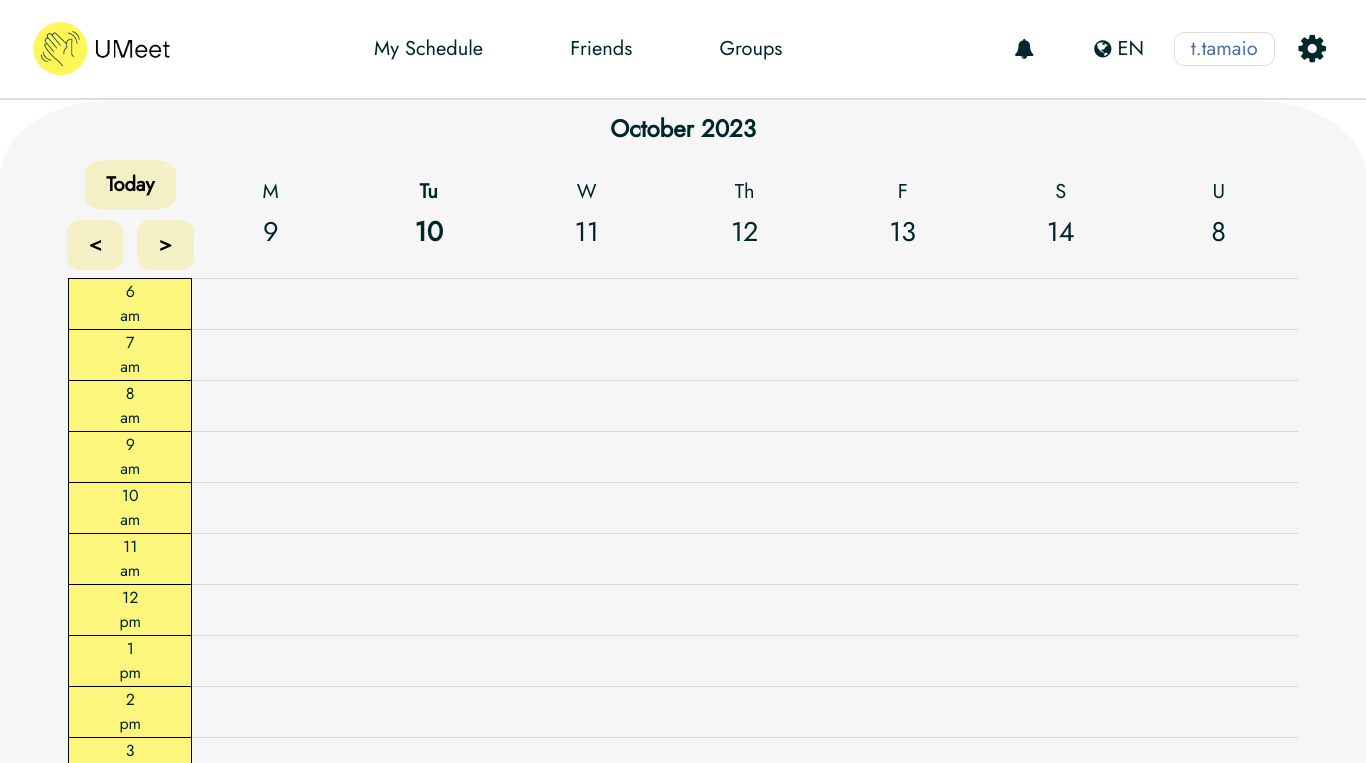
Test: renders month in spanish
The width and height of the screenshot is (1366, 763).
Note: change language to spanish
Step 1. Click the button "EN" → (1119, 49), box top-left (1088, 32), bottom-right (1150, 66)
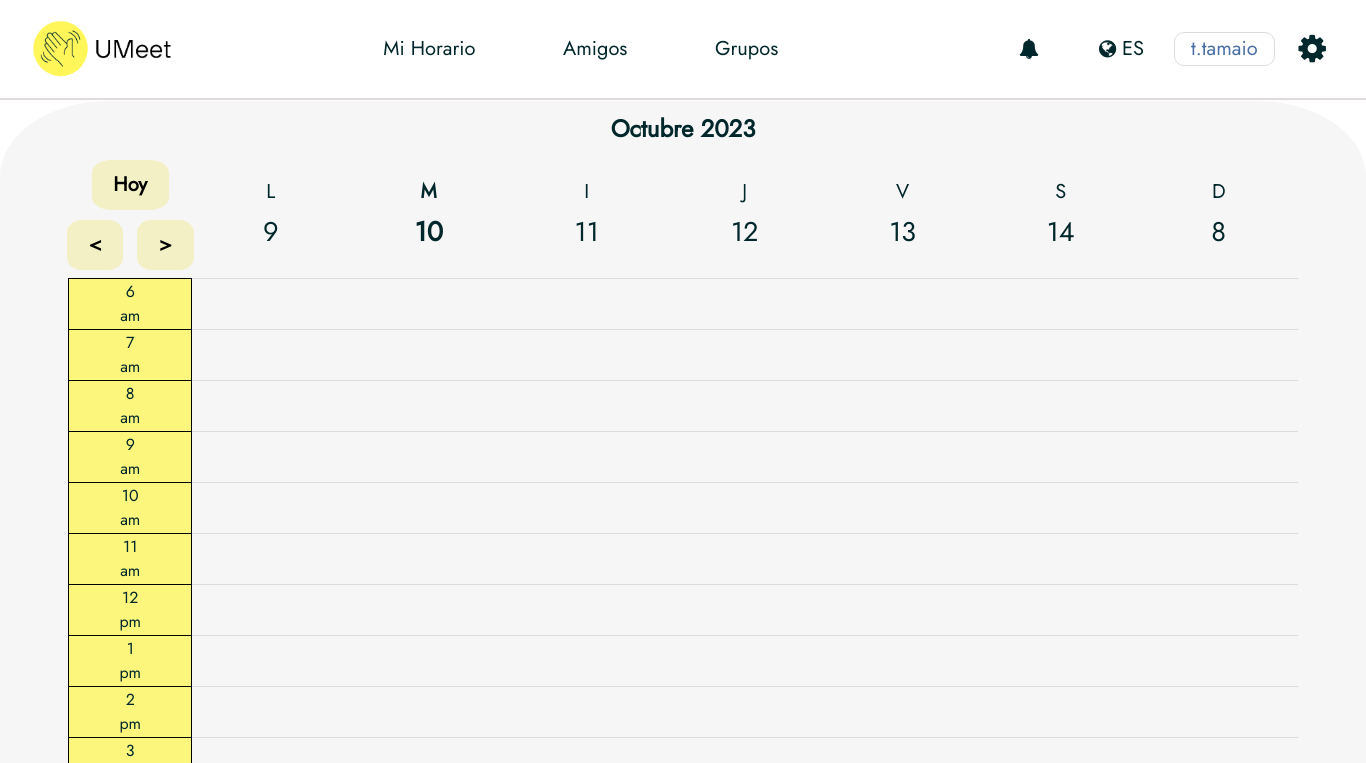
Now the text with test id "timetable-title" shows "Octubre", box top-left (611, 111), bottom-right (755, 146)
